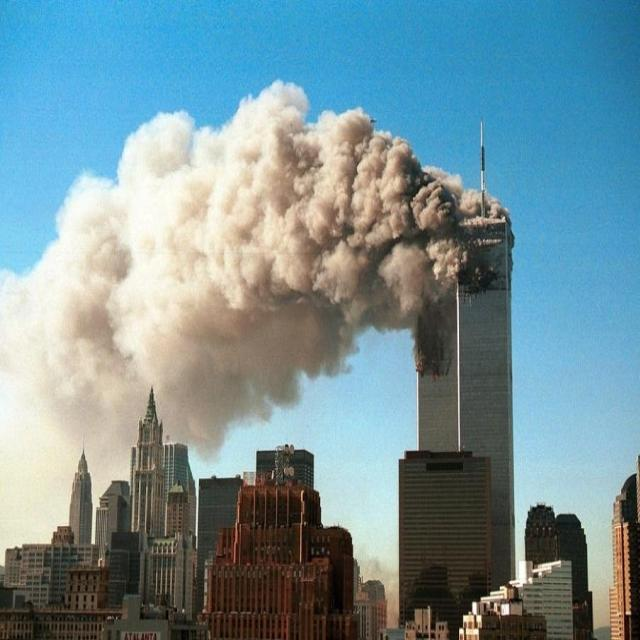Smoke: (1, 80, 516, 550)
